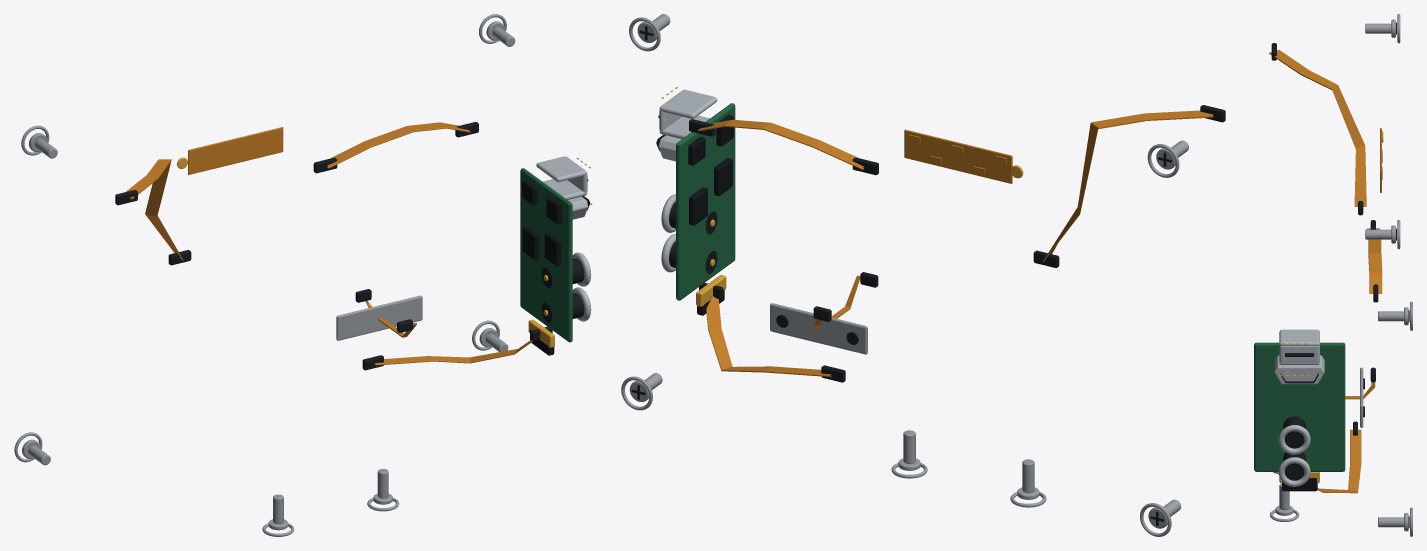
Rendered from 08_io_flex_fasteners.glb.
3 views of the same model, side by side, from view 1: azimuth 30°, elevation 25°; view 2: azimuth 150°, elevation 25°; view 3: azimuth 270°, elevation 25° (orthographic). The views are drawn at different scales.
Parts seen in each view (by area): view 1: Z50II-08-005_io_daughterboard.001, Z50II-08-006_wifi_bluetooth_antenna.001, Z50II-08-018_cable_clamp.001, Z50II-08-007_top_flex_cable.001, Z50II-08-008_rear_flex_cable.001, Z50II-08-010_port_flex_cable.001, Z50II-08-001_usb_c_port.001; view 2: Z50II-08-005_io_daughterboard.001, Z50II-08-006_wifi_bluetooth_antenna.001, Z50II-08-018_cable_clamp.001, Z50II-08-007_top_flex_cable.001, Z50II-08-010_port_flex_cable.001, Z50II-08-008_rear_flex_cable.001, Z50II-08-001_usb_c_port.001; view 3: Z50II-08-005_io_daughterboard.001, Z50II-08-007_top_flex_cable.001, Z50II-08-002_micro_hdmi_port.001, Z50II-08-010_port_flex_cable.001, Z50II-08-008_rear_flex_cable.001, Z50II-08-001_usb_c_port.001, Z50II_usb_c_front_shell.001, Z50II-08-004_output_remote_jack.001, Z50II-08-003_microphone_jack.001, Z50II_microphone_jack_barrel.001, Z50II_output_remote_jack_barrel.001, Z50II_io_board_package_5.001 (+6 smaller).
Boxes of the visible parts, left/top/right/bottom form: Z50II-08-005_io_daughterboard.001: left=520, top=168, right=572, bottom=342; Z50II-08-006_wifi_bluetooth_antenna.001: left=188, top=127, right=283, bottom=174; Z50II-08-018_cable_clamp.001: left=336, top=295, right=422, bottom=340; Z50II-08-007_top_flex_cable.001: left=126, top=159, right=183, bottom=260; Z50II-08-008_rear_flex_cable.001: left=327, top=122, right=470, bottom=168; Z50II-08-010_port_flex_cable.001: left=375, top=335, right=539, bottom=365; Z50II-08-001_usb_c_port.001: left=536, top=156, right=587, bottom=182; Z50II-08-005_io_daughterboard.001: left=676, top=103, right=735, bottom=300; Z50II-08-006_wifi_bluetooth_antenna.001: left=904, top=129, right=1012, bottom=183; Z50II-08-018_cable_clamp.001: left=770, top=303, right=867, bottom=354; Z50II-08-007_top_flex_cable.001: left=1042, top=110, right=1213, bottom=262; Z50II-08-010_port_flex_cable.001: left=706, top=296, right=831, bottom=376; Z50II-08-008_rear_flex_cable.001: left=698, top=119, right=863, bottom=169; Z50II-08-001_usb_c_port.001: left=659, top=89, right=717, bottom=118; Z50II-08-005_io_daughterboard.001: left=1254, top=342, right=1345, bottom=471; Z50II-08-007_top_flex_cable.001: left=1269, top=50, right=1366, bottom=206; Z50II-08-002_micro_hdmi_port.001: left=1274, top=355, right=1324, bottom=384; Z50II-08-010_port_flex_cable.001: left=1317, top=429, right=1361, bottom=493; Z50II-08-008_rear_flex_cable.001: left=1366, top=228, right=1382, bottom=293; Z50II-08-001_usb_c_port.001: left=1279, top=329, right=1319, bottom=345; Z50II_usb_c_front_shell.001: left=1279, top=345, right=1319, bottom=362; Z50II-08-004_output_remote_jack.001: left=1278, top=457, right=1310, bottom=486; Z50II-08-003_microphone_jack.001: left=1278, top=425, right=1310, bottom=454; Z50II_microphone_jack_barrel.001: left=1283, top=416, right=1305, bottom=448; Z50II_output_remote_jack_barrel.001: left=1283, top=452, right=1305, bottom=480; Z50II_io_board_package_5.001: left=1282, top=478, right=1317, bottom=491.
Bounding box in the file's own units: 0.1063 × 0.0809 × 0.0313.
